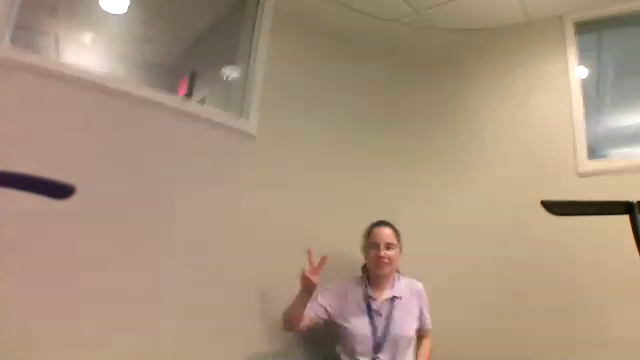peace: (294, 243, 329, 293)
